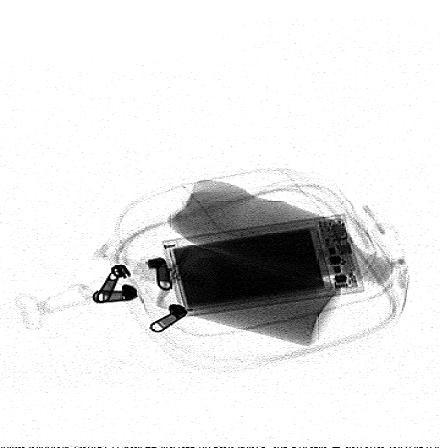Powerbank: (160, 213, 366, 317)
